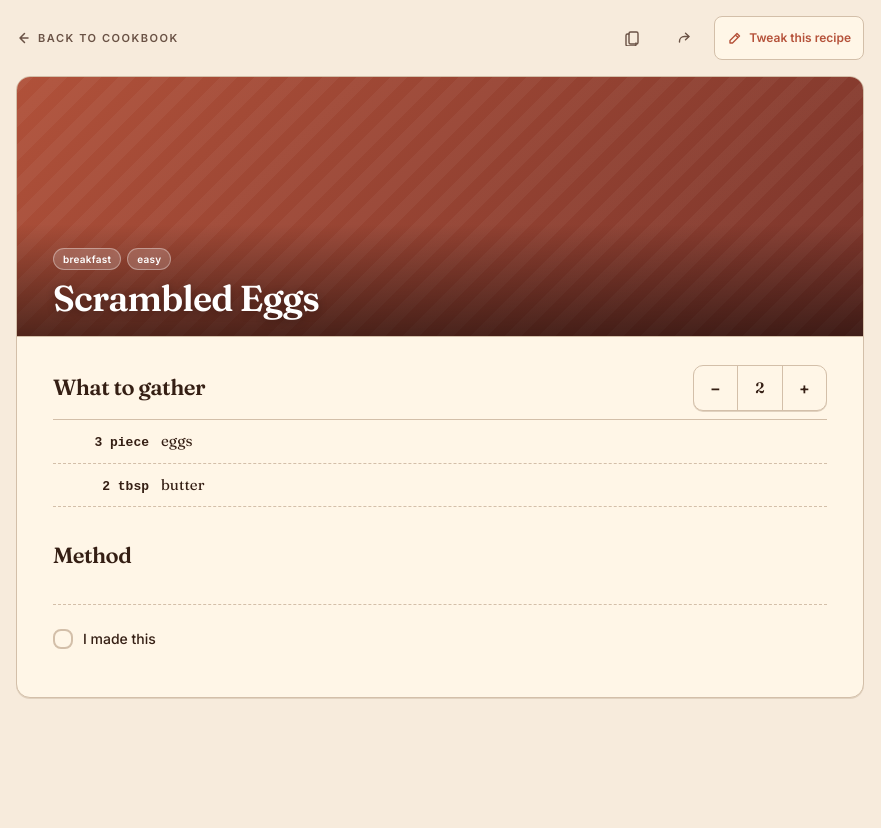
Test: RecipeDisplay › Servings stepper › scales ingredient amounts when servings decrease
Click the button named "Decrease servings". click: coordinates (716, 388)
box: [694,366,738,410]
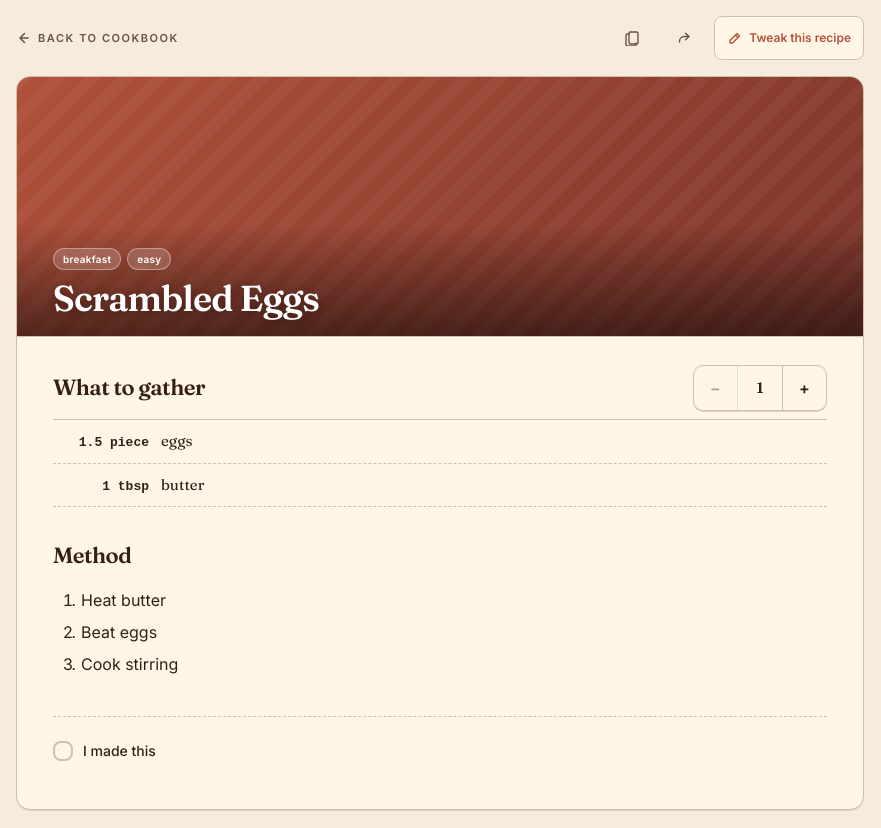
Result: the text "1.5 piece" is shown at [79,435,149,450]
